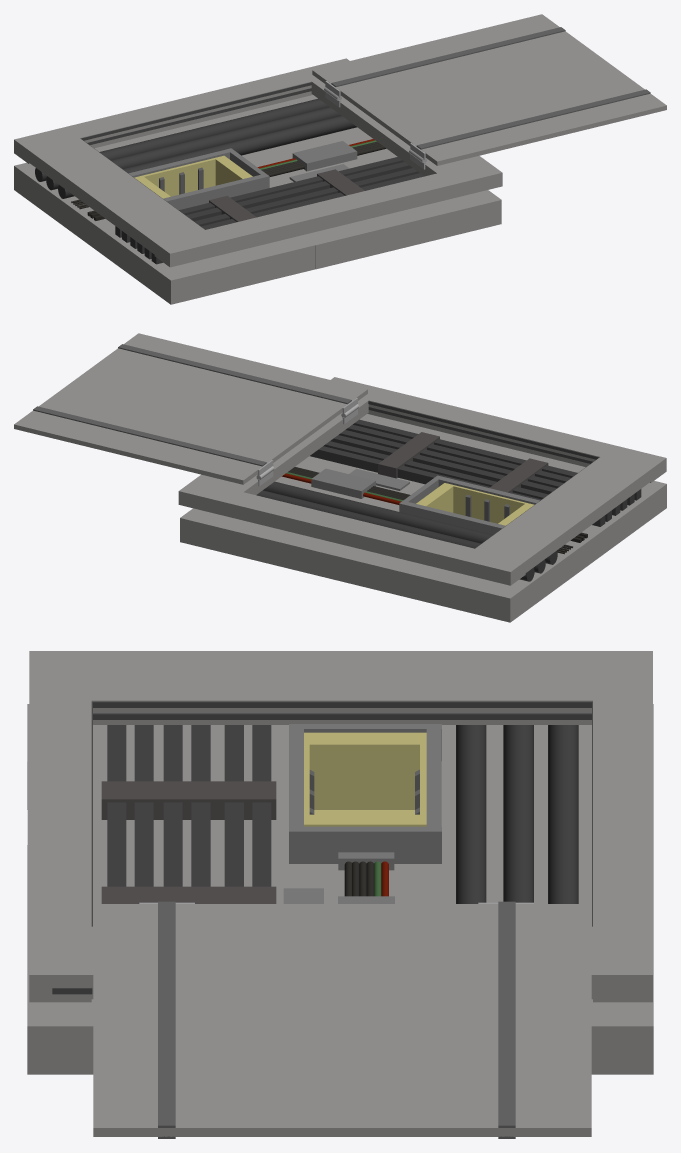
The model's file is Socket.fbx.
The picture shows the model from 3 angles, top to bottom: view 1: azimuth 30°, elevation 25°; view 2: azimuth 150°, elevation 25°; view 3: azimuth 270°, elevation 25°; orthographic projection. The views are drawn at different scales.
Parts seen in each view (by area): view 1: polySurface5, polySurface16, Zone_Beta_v6:Zone_Beta_v5:pCube205, polySurface24, polySurface39, Zone_Beta_v6:Zone_Beta_v5:pCube174, Zone_Beta_v6:Zone_Beta_v5:pCube178; view 2: polySurface5, polySurface16, Zone_Beta_v6:Zone_Beta_v5:pCube205, polySurface24, Zone_Beta_v6:Zone_Beta_v5:pCube176, Zone_Beta_v6:Zone_Beta_v5:pCube177; view 3: polySurface16, polySurface5, Zone_Beta_v6:Zone_Beta_v5:pCube205, polySurface24, pCube174, pCube178.
Boxes of the visible parts, x1,y1,x2,y2 form: polySurface5: (14, 58, 502, 304); polySurface16: (312, 14, 666, 165); Zone_Beta_v6:Zone_Beta_v5:pCube205: (35, 98, 424, 264); polySurface24: (71, 139, 386, 220); polySurface39: (134, 158, 216, 196); Zone_Beta_v6:Zone_Beta_v5:pCube174: (81, 82, 311, 140); Zone_Beta_v6:Zone_Beta_v5:pCube178: (87, 88, 311, 144); polySurface5: (178, 377, 666, 622); polySurface16: (14, 333, 367, 484); Zone_Beta_v6:Zone_Beta_v5:pCube205: (256, 419, 641, 581); polySurface24: (282, 467, 587, 554); Zone_Beta_v6:Zone_Beta_v5:pCube176: (368, 401, 598, 459); Zone_Beta_v6:Zone_Beta_v5:pCube177: (368, 407, 592, 463); polySurface16: (93, 901, 591, 1138); polySurface5: (27, 651, 653, 1074); Zone_Beta_v6:Zone_Beta_v5:pCube205: (101, 725, 578, 903); polySurface24: (289, 724, 441, 903); pCube174: (92, 701, 592, 707); pCube178: (93, 713, 591, 719).
Size of the model in its own units: 22.16 by 2.99 by 11.75.
